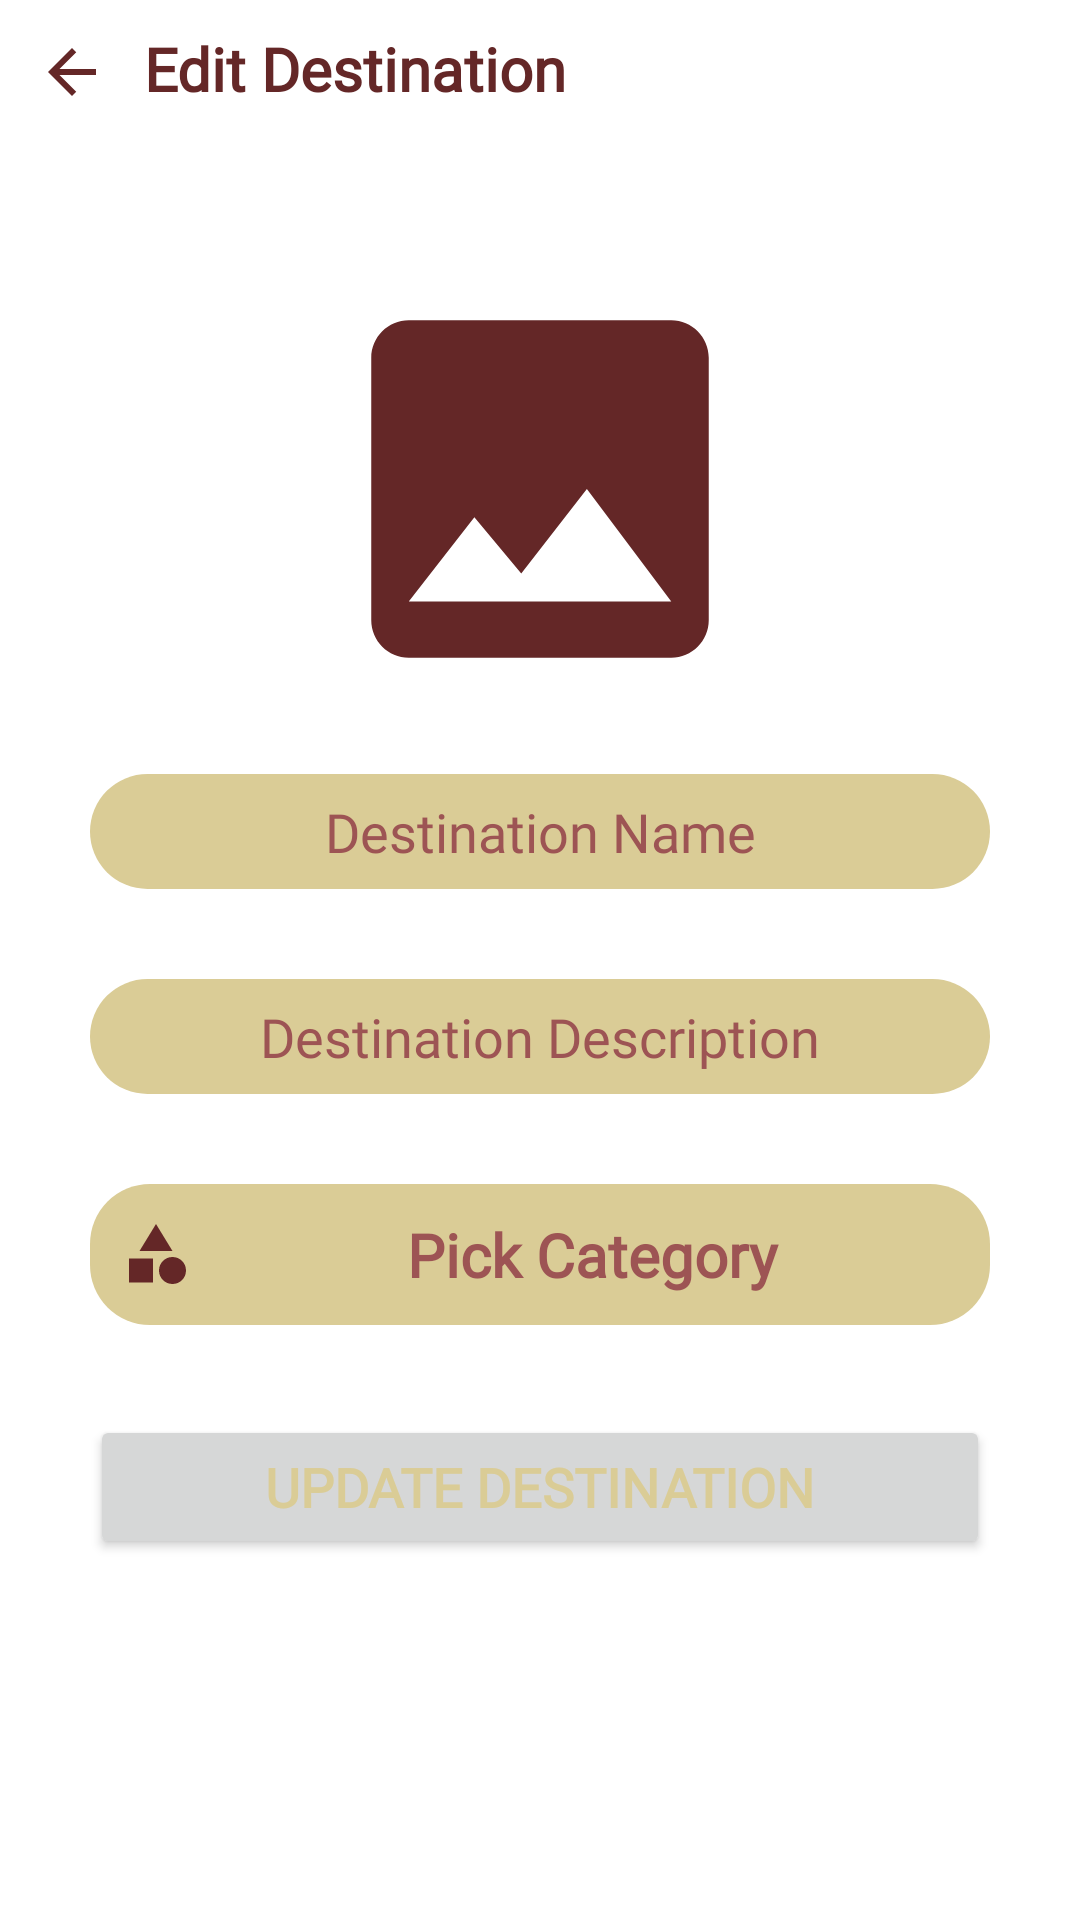

Icon bounding boxes for this 1080 × 1920 phone screenshot, format [x1,y1,x2,y2]:
back: [48,48,96,96]
insert photo: [371,320,709,658]
